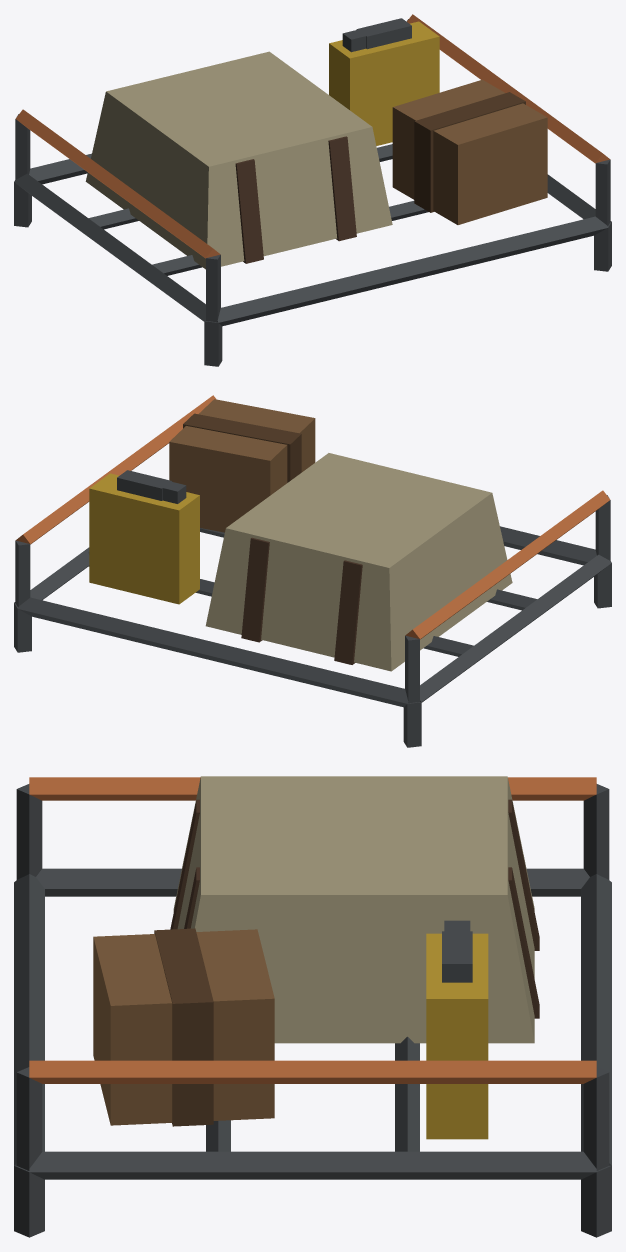
Rendered from upg_cargo_rack.glb.
3 renders of one model, top to bottom at view 1: azimuth 30°, elevation 25°; view 2: azimuth 150°, elevation 25°; view 3: azimuth 270°, elevation 25°, orthographic. The views are drawn at different scales.
Parts seen in each view (by area): view 1: cargo_rack; view 2: cargo_rack; view 3: cargo_rack.
Boxes of the visible parts, x1,y1,x2,y2 form: cargo_rack: (14, 14, 611, 366); cargo_rack: (14, 395, 611, 747); cargo_rack: (14, 776, 611, 1237).
Bounding box in the file's own units: 1.36 × 0.49 × 1.16.
